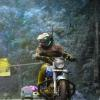motorcycles: (43, 54, 74, 100)
